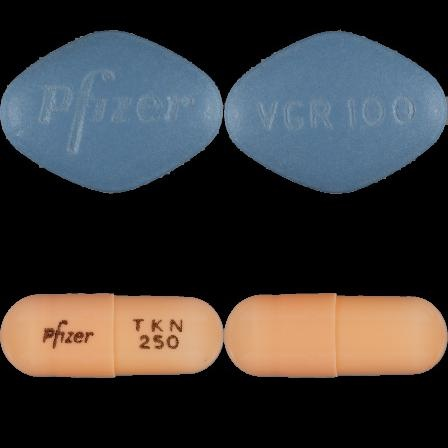0069-4220: (0, 0, 224, 224)
